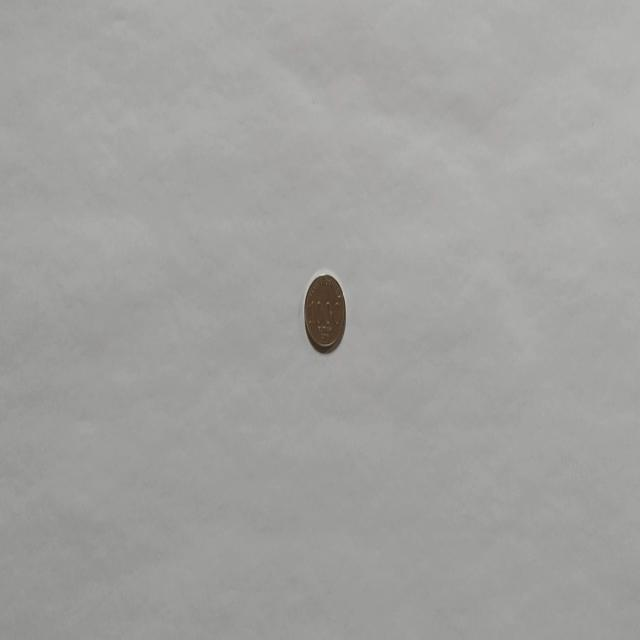seribu rupiah koin: (303, 269, 347, 354)
